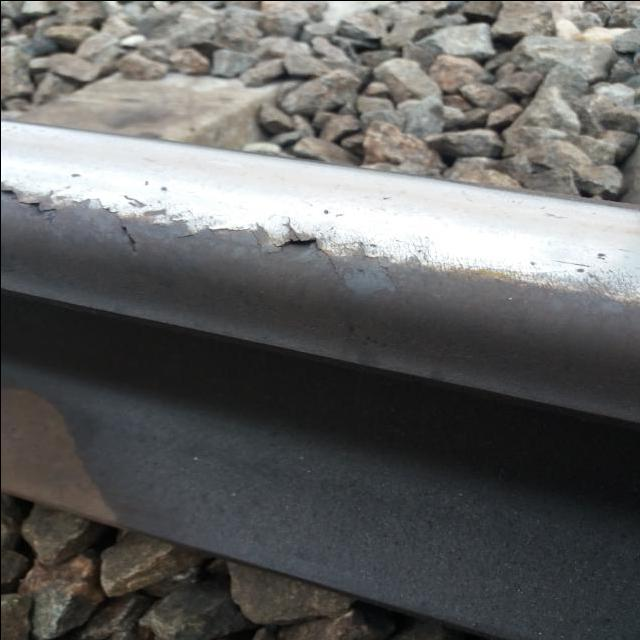broken_rail_medium: (272, 219, 344, 278), (94, 195, 142, 255), (0, 185, 60, 224), (137, 175, 171, 193), (318, 206, 346, 218), (64, 168, 82, 180)
